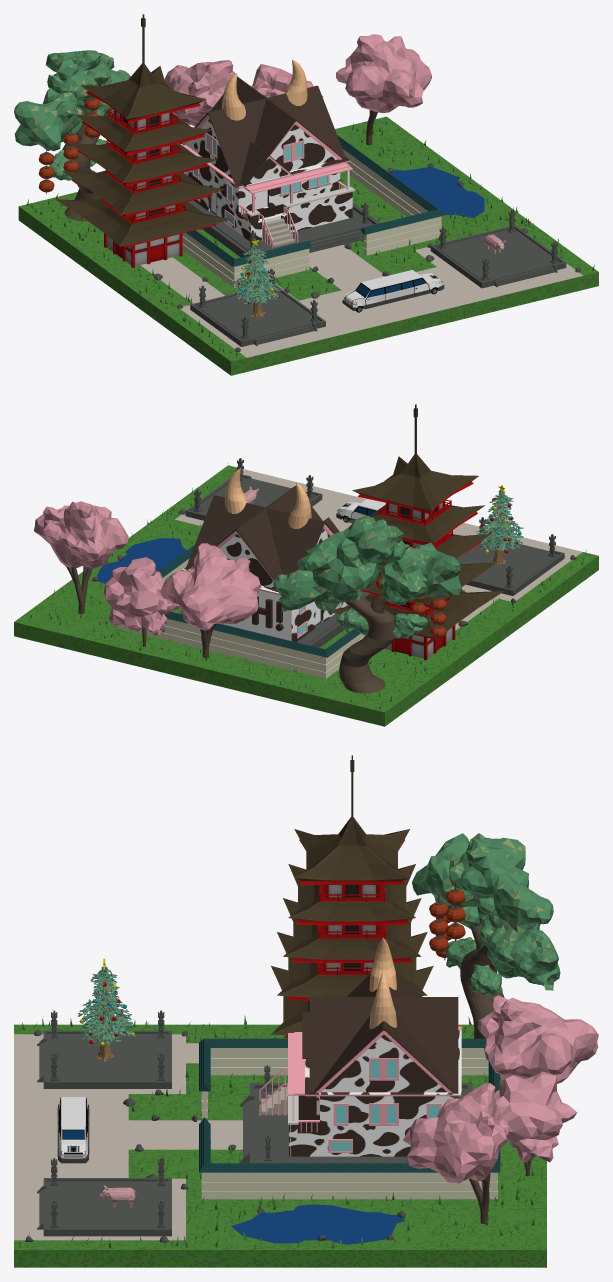
The picture shows the model from 3 angles, top to bottom: view 1: azimuth 30°, elevation 25°; view 2: azimuth 150°, elevation 25°; view 3: azimuth 270°, elevation 25°; orthographic projection. The views are drawn at different scales.
Visible parts, largest first — view 1: Cube.005, Cube.1242, VEHICLES_LIMOUSINE, OBJRANDOM_CHRISTMAS_TREE; view 2: Cube.005, Cube.1242, OBJRANDOM_CHRISTMAS_TREE, VEHICLES_LIMOUSINE; view 3: Cube.005, Cube.1242, OBJRANDOM_CHRISTMAS_TREE, VEHICLES_LIMOUSINE.
Part boxes in pixels (x1,y1,x2,y2): Cube.005: (14,14,598,375); Cube.1242: (179,59,355,248); VEHICLES_LIMOUSINE: (342,270,444,312); OBJRANDOM_CHRISTMAS_TREE: (231,239,280,317); Cube.005: (14,404,598,726); Cube.1242: (181,468,347,642); OBJRANDOM_CHRISTMAS_TREE: (476,485,523,564); VEHICLES_LIMOUSINE: (336,499,385,522); Cube.005: (14,755,598,1267); Cube.1242: (259,938,461,1156); OBJRANDOM_CHRISTMAS_TREE: (78,958,135,1061); VEHICLES_LIMOUSINE: (57,1097,89,1163).
Size of the model in its own units: 4528 by 2698 by 4389.
45 materials, 5 textured.
